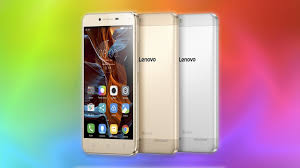lenovo: (79, 10, 138, 158)
